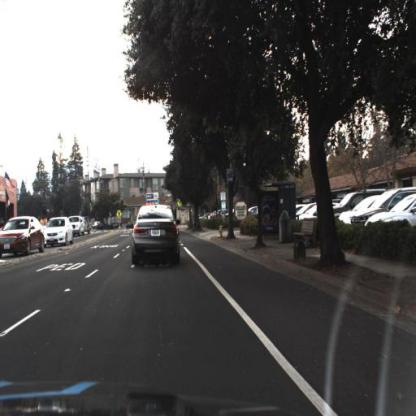car: (129, 204, 184, 271), (365, 188, 416, 245), (2, 217, 47, 255), (328, 190, 369, 224), (43, 215, 75, 247), (299, 198, 324, 229), (70, 213, 87, 245), (92, 221, 104, 234), (92, 218, 103, 232)
